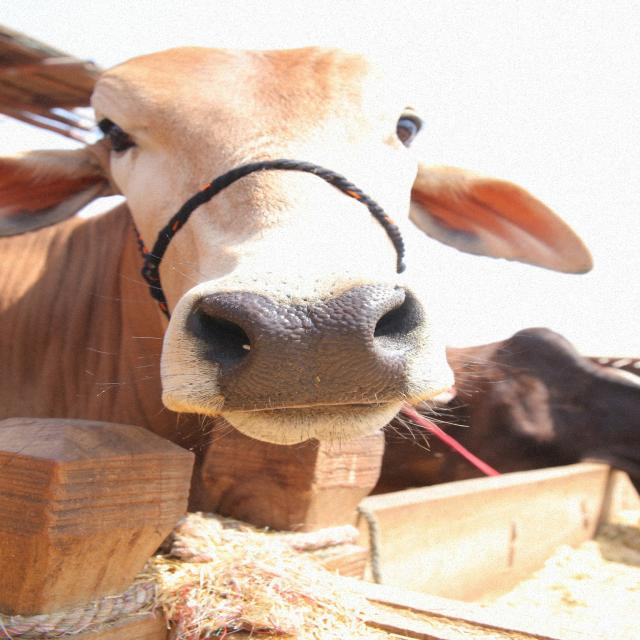muzzles: (179, 281, 439, 415)
